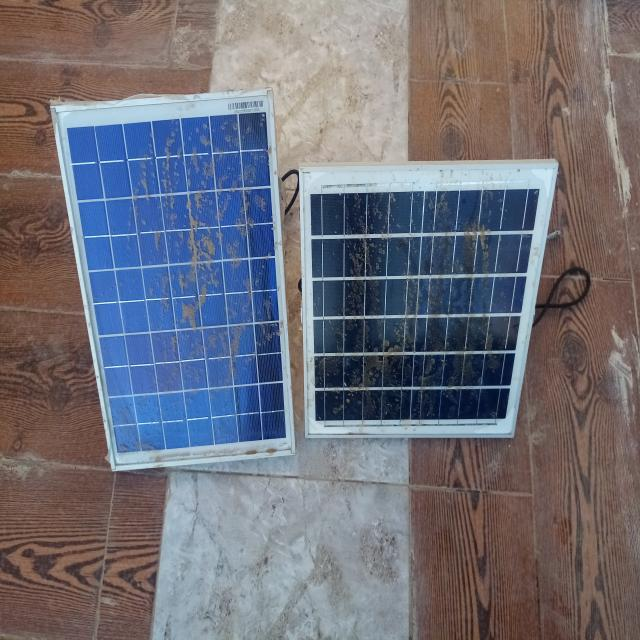faulty: (52, 91, 295, 470), (302, 162, 559, 439)
